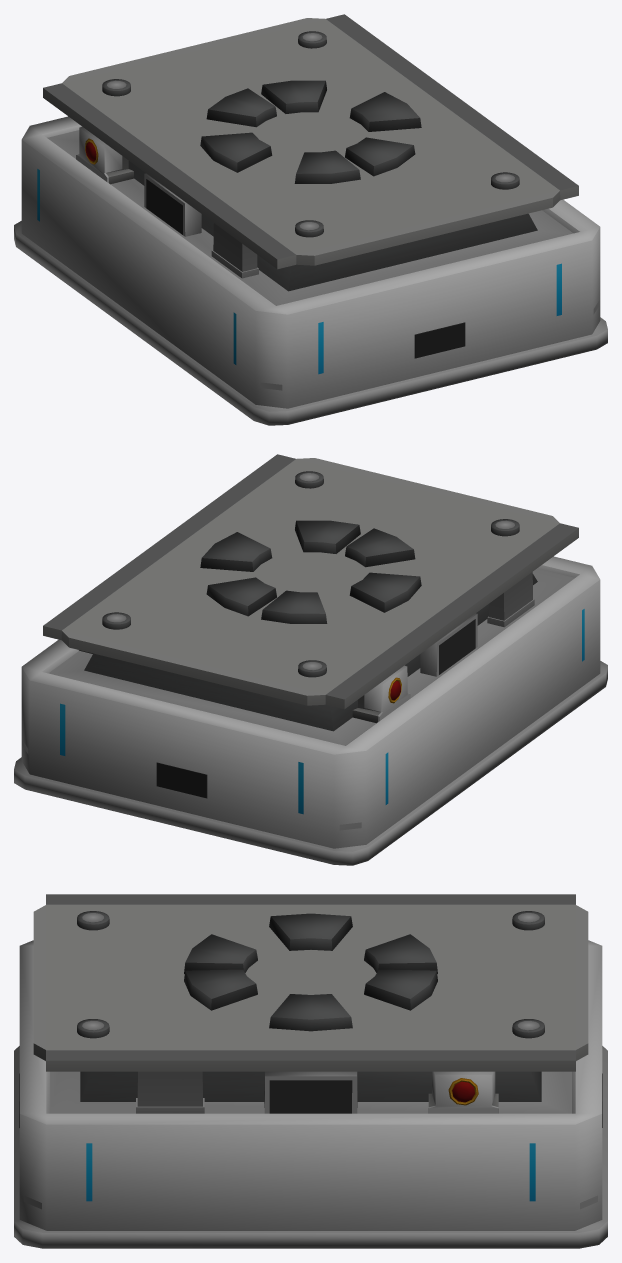
The model's file is AGV_Iso_Slam_R01.glb.
3 views of the same model, one above another, from view 1: azimuth 30°, elevation 25°; view 2: azimuth 150°, elevation 25°; view 3: azimuth 270°, elevation 25° (orthographic). The views are drawn at different scales.
Parts seen in each view (by area): view 1: AGV_Iso_Slam_R01; view 2: AGV_Iso_Slam_R01; view 3: AGV_Iso_Slam_R01.
Boxes of the visible parts, bbox=[...] form: AGV_Iso_Slam_R01: bbox=[14, 14, 607, 425]; AGV_Iso_Slam_R01: bbox=[14, 454, 607, 865]; AGV_Iso_Slam_R01: bbox=[14, 894, 607, 1248].
Size of the model in its own units: 1.01 by 0.4482 by 1.3.
Materials: 1 (1 with a texture image).
